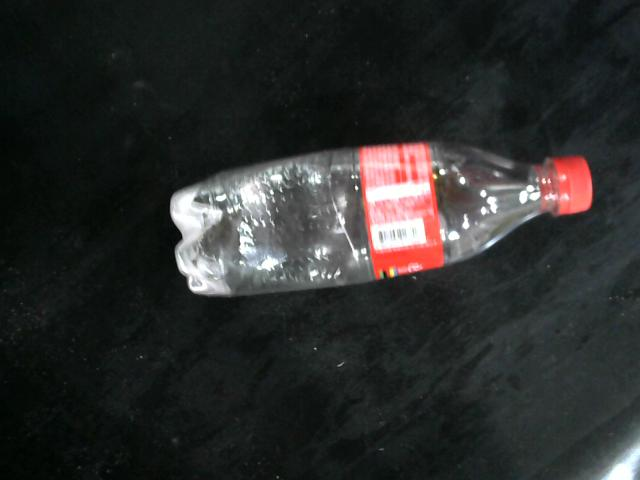bottle: (169, 140, 594, 298)
